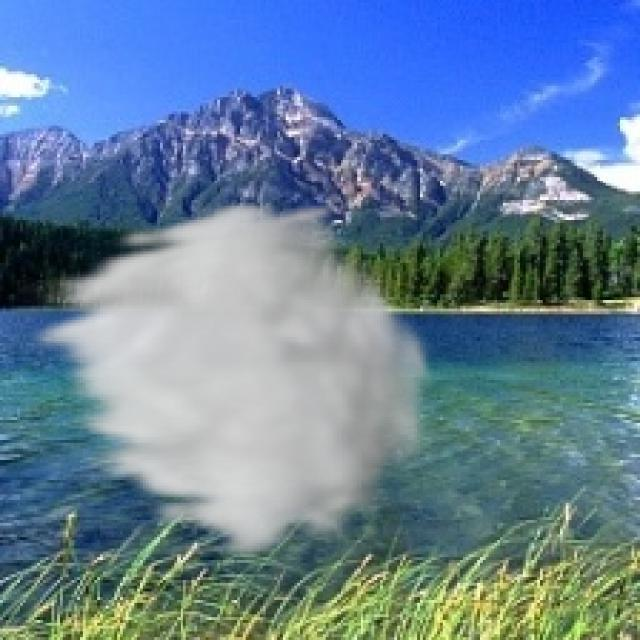Smoke: (17, 197, 440, 563)
